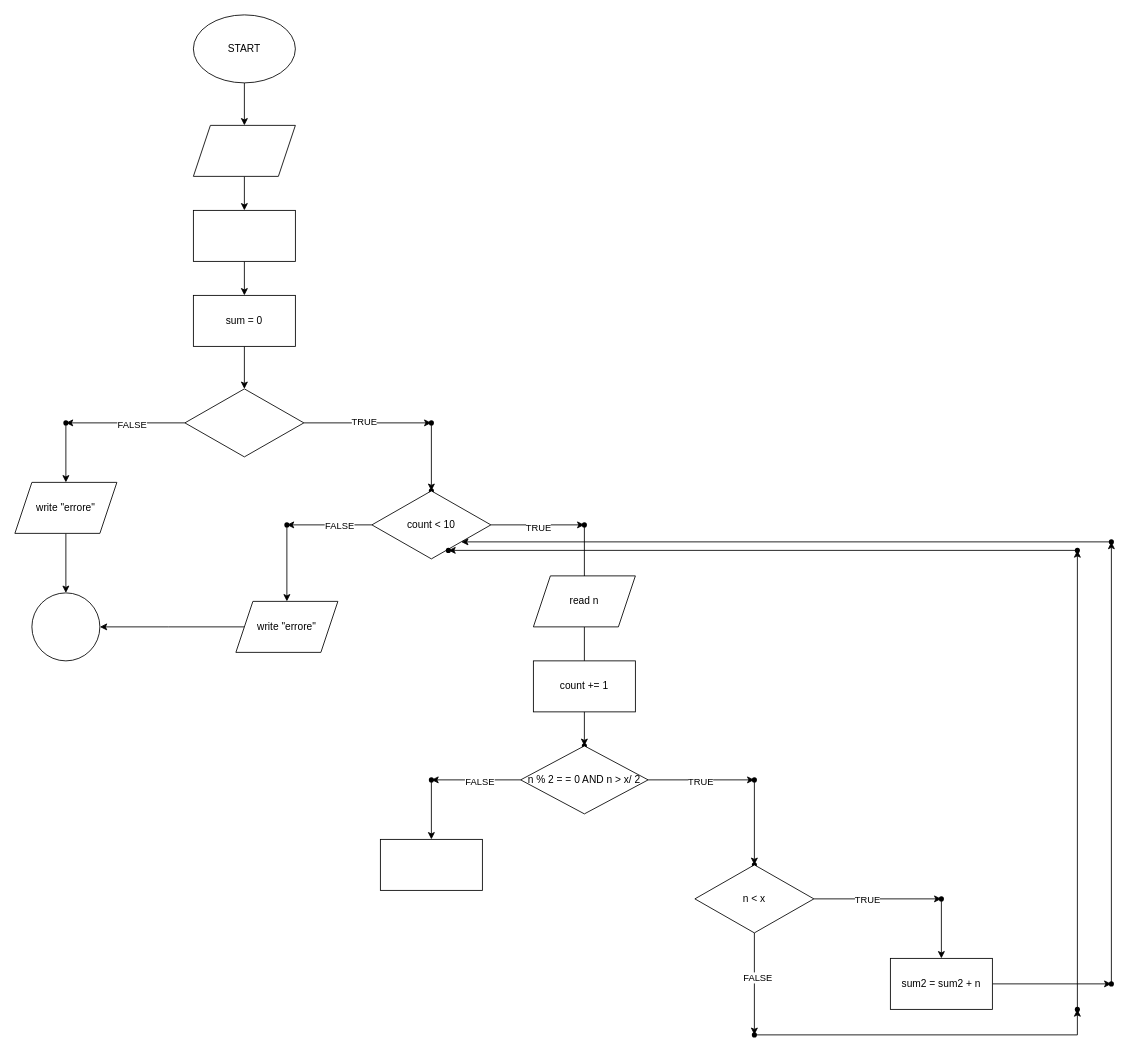
The diagram is 1135 pixels wide and 1058 high, and some of its shapes have lost their labels. Here are the shapes that lost their labels. From the top down, the centre of each, then its label:
the point at 244,150: Read x
the point at 244,235: count = 0
the point at 244,422: x > 0
the point at 65,626: END
the point at 431,864: sum + sum = n
